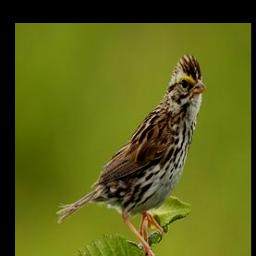Sparrow: (55, 48, 206, 256)
